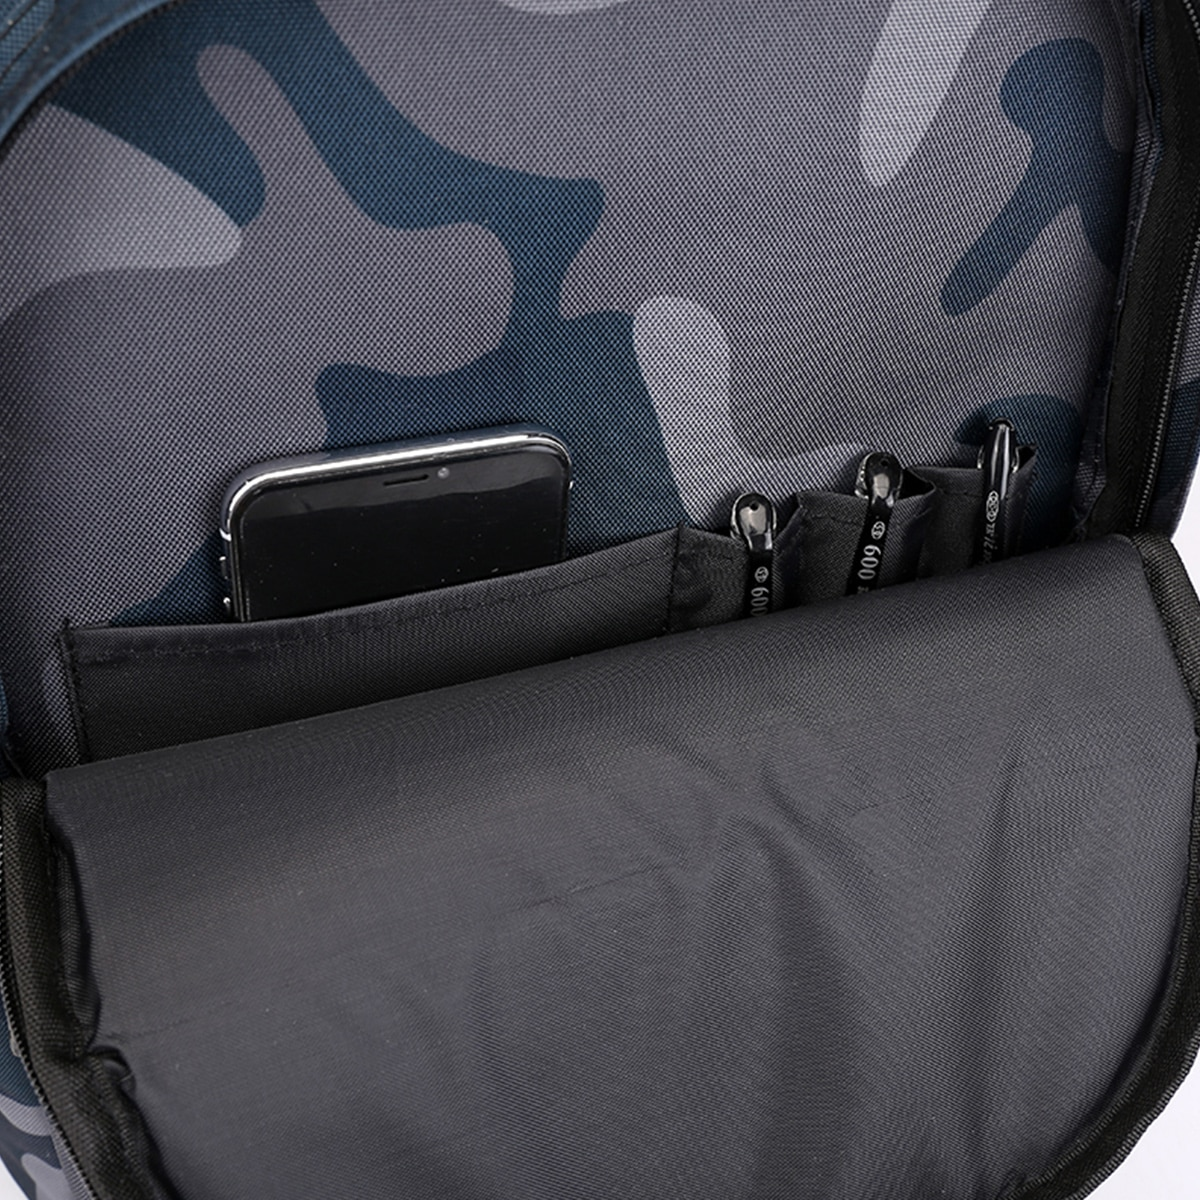Men's Backpacks: (1, 1, 1200, 1200)
Mobiles&Acc|Mobile Phone: (225, 423, 576, 617)
